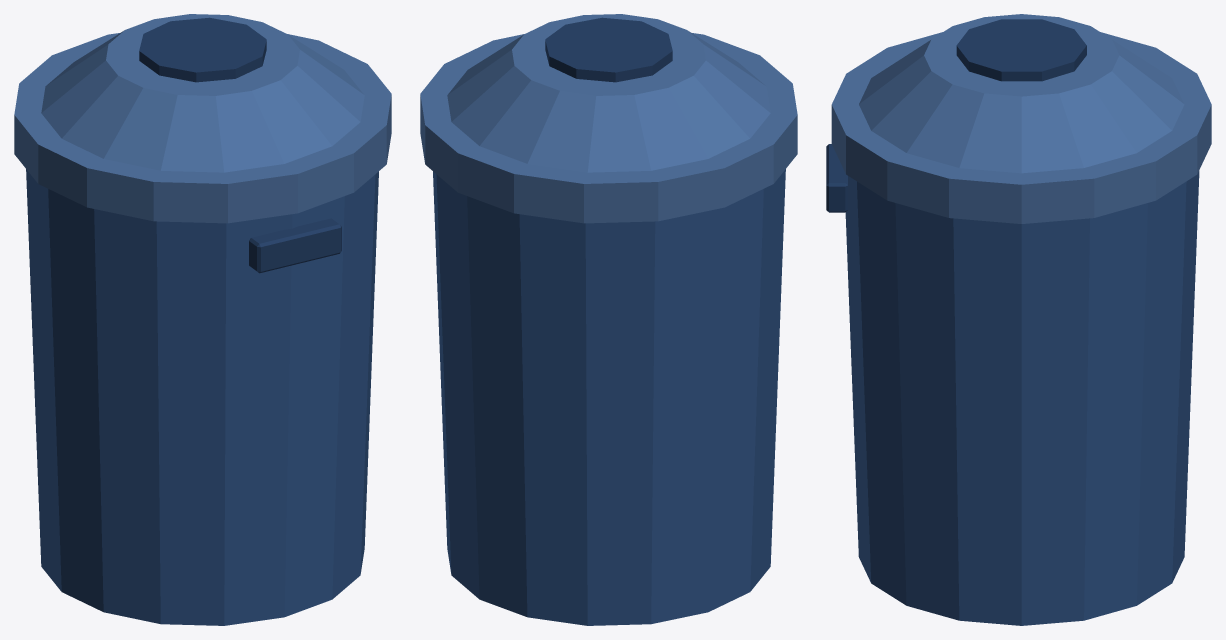
The model's file is bin_blue.glb.
The picture shows the model from 3 angles, left to right: view 1: azimuth 30°, elevation 25°; view 2: azimuth 150°, elevation 25°; view 3: azimuth 270°, elevation 25°; orthographic projection.
Visible parts, largest first — view 1: bin_blue; view 2: bin_blue; view 3: bin_blue.
Part boxes in pixels (<box>): bin_blue: <box>14,14,391,625</box>; bin_blue: <box>420,14,797,625</box>; bin_blue: <box>826,14,1211,625</box>.
Bounding box in the file's own units: 0.7 × 1.04 × 0.71.
